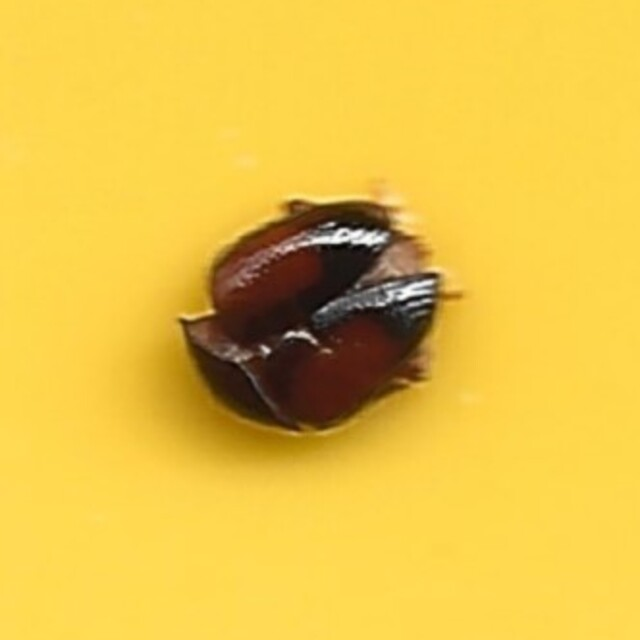Coleoptera: (193, 195, 447, 445)
